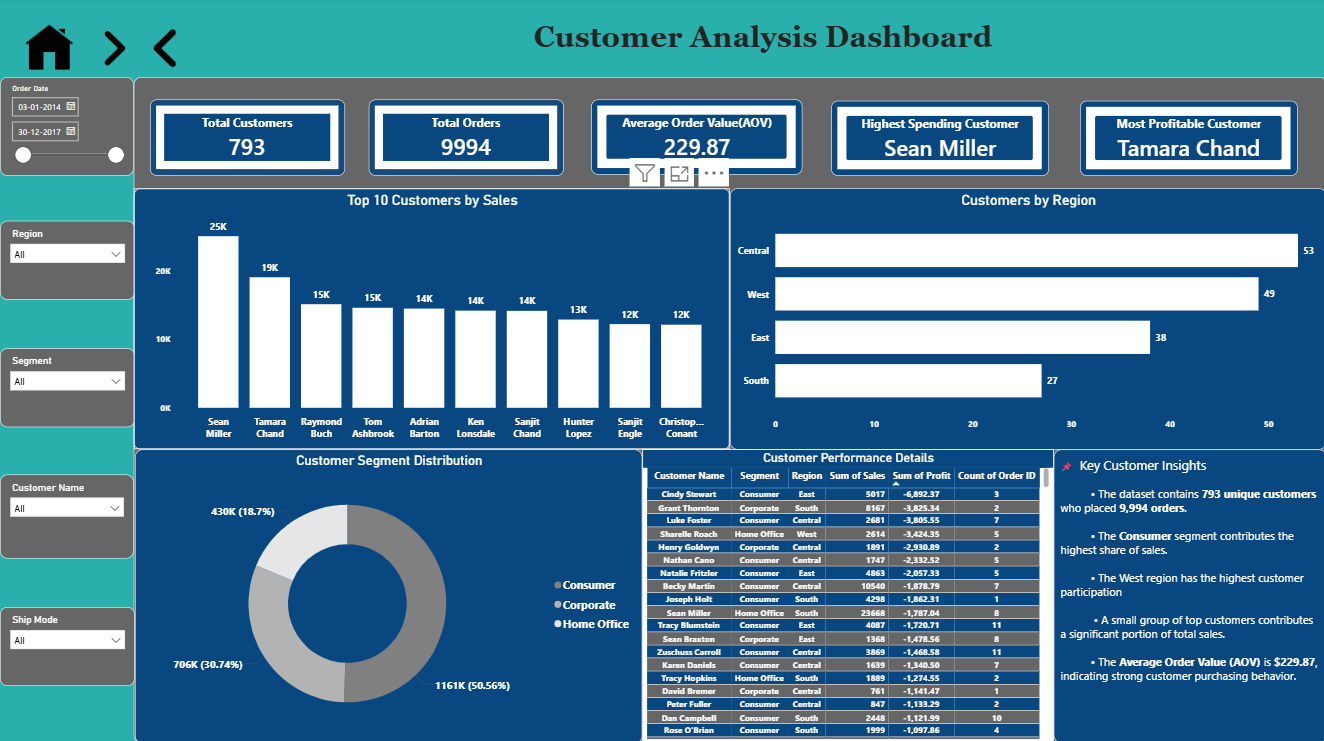

This screenshot's page, from the dashboard's own definition file:
{"tool":"powerbi","page":{"name":"Page 3","canvas":[1920,1080],"ordinal":2},"visuals":[{"type":"textbox","box":[193,116,1727,964],"z":0},{"type":"textbox","box":[747.4,29,714.8,79.6],"z":1000},{"type":"cardVisual","fields":{"Data":["'Sales Data$'FilterDatabase.Total Customers"]},"box":[217.2,148.4,282.3,110.4],"z":2000},{"type":"cardVisual","fields":{"Data":["'Sales Data$'FilterDatabase.Total Orders"]},"box":[533.8,148.4,282.3,110.4],"z":3000},{"type":"cardVisual","fields":{"Data":["'Sales Data$'FilterDatabase.Average Orders value"]},"box":[856,148.4,305.8,108.6],"z":4000},{"type":"cardVisual","fields":{"Data":["'Sales Data$'FilterDatabase.Highest Spending Customer"]},"box":[1203.4,150.2,314.9,108.6],"z":5000},{"type":"cardVisual","fields":{"Data":["'Sales Data$'FilterDatabase.Customer Maximum Profit"]},"box":[1563.5,150.2,314.9,108.6],"z":6000},{"type":"slicer","fields":{"Values":["'Sales Data$'FilterDatabase.Order Date"]},"box":[0,115.8,193.6,143],"z":7000},{"type":"slicer","fields":{"Values":["'Sales Data$'FilterDatabase.Region"]},"box":[0,323.9,195.4,114],"z":8000},{"type":"slicer","fields":{"Values":["'Sales Data$'FilterDatabase.Segment"]},"box":[0,508.5,195.4,114],"z":9000},{"type":"slicer","fields":{"Values":["'Sales Data$'FilterDatabase.Customer Name"]},"box":[0,691.3,193.6,121.2],"z":10000},{"type":"slicer","fields":{"Values":["'Sales Data$'FilterDatabase.Ship Mode"]},"box":[0,883.1,195.4,114],"z":11000},{"type":"clusteredColumnChart","title":"Top 10 Customers by Sales","fields":{"Category":["'Sales Data$'FilterDatabase.Customer Name"],"Y":["Sum('Sales Data$'FilterDatabase.Sales)"]},"box":[193.6,276.9,863.2,378.2],"z":12000},{"type":"clusteredBarChart","title":"Customers by Region","fields":{"Category":["'Sales Data$'FilterDatabase.Region"],"Y":["CountNonNull('Sales Data$'FilterDatabase.Order ID)"]},"box":[1056.8,276.9,863.2,378.2],"z":13000},{"type":"donutChart","title":"Customer Segment Distribution","fields":{"Y":["Sum('Sales Data$'FilterDatabase.Sales)"],"Category":["'Sales Data$'FilterDatabase.Segment"]},"box":[195.4,655.1,734.7,425.3],"z":14000},{"type":"tableEx","title":"Customer Performance Details","fields":{"Values":["'Sales Data$'FilterDatabase.Customer Name","'Sales Data$'FilterDatabase.Segment","'Sales Data$'FilterDatabase.Region","Sum('Sales Data$'FilterDatabase.Sales)","Sum('Sales Data$'FilterDatabase.Profit)","'Sales Data$'FilterDatabase.Order ID"]},"box":[930,655,595,425],"z":15000},{"type":"textbox","box":[1525,655,395,425],"z":16000},{"type":"image","box":[107,36,119,76],"z":17000},{"type":"image","box":[167,32,144,83],"z":18000},{"type":"image","box":[36.2,32.6,70.6,83.2],"z":19000}]}

Visuals, with their boxes in screenshot pixels (x1, y1, x2, y2), scaled from the page's 1920x1080 canvas onto the 1324x741 screenshot:
textbox: <region>133, 80, 1323, 740</region>
textbox: <region>515, 20, 1008, 75</region>
cardVisual - 'Sales Data$'FilterDatabase.Total Customers: <region>150, 102, 344, 178</region>
cardVisual - 'Sales Data$'FilterDatabase.Total Orders: <region>368, 102, 563, 178</region>
cardVisual - 'Sales Data$'FilterDatabase.Average Orders value: <region>590, 102, 801, 176</region>
cardVisual - 'Sales Data$'FilterDatabase.Highest Spending Customer: <region>830, 103, 1047, 178</region>
cardVisual - 'Sales Data$'FilterDatabase.Customer Maximum Profit: <region>1078, 103, 1295, 178</region>
slicer - 'Sales Data$'FilterDatabase.Order Date: <region>0, 79, 134, 178</region>
slicer - 'Sales Data$'FilterDatabase.Region: <region>0, 222, 135, 300</region>
slicer - 'Sales Data$'FilterDatabase.Segment: <region>0, 349, 135, 427</region>
slicer - 'Sales Data$'FilterDatabase.Customer Name: <region>0, 474, 134, 557</region>
slicer - 'Sales Data$'FilterDatabase.Ship Mode: <region>0, 606, 135, 684</region>
"Top 10 Customers by Sales" clusteredColumnChart: <region>134, 190, 729, 449</region>
"Customers by Region" clusteredBarChart: <region>729, 190, 1323, 449</region>
"Customer Segment Distribution" donutChart: <region>135, 449, 641, 740</region>
"Customer Performance Details" tableEx: <region>641, 449, 1052, 740</region>
textbox: <region>1052, 449, 1323, 740</region>
image: <region>74, 25, 156, 77</region>
image: <region>115, 22, 214, 79</region>
image: <region>25, 22, 74, 79</region>
